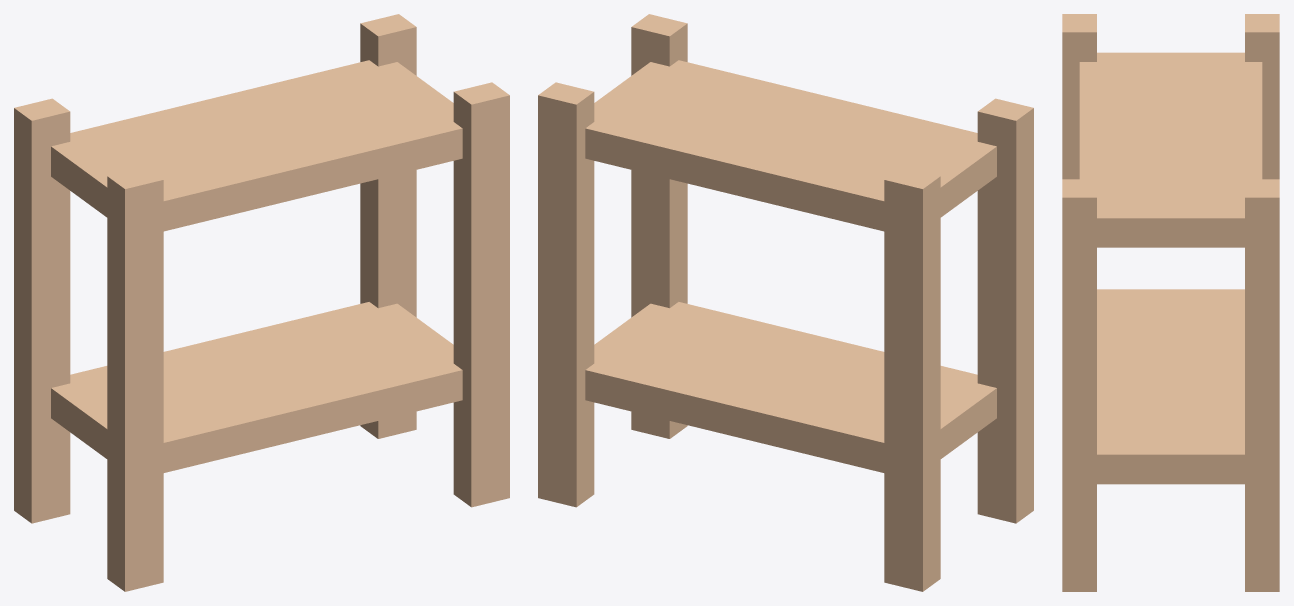
Rendered from bookcaseOpenLow-alt-col.glb.
3 views of the same model, side by side, from view 1: azimuth 30°, elevation 25°; view 2: azimuth 150°, elevation 25°; view 3: azimuth 270°, elevation 25° (orthographic). The views are drawn at different scales.
Parts seen in each view (by area): view 1: bookcaseOpenLow-alt-col; view 2: bookcaseOpenLow-alt-col; view 3: bookcaseOpenLow-alt-col.
Boxes of the visible parts, <box> form: bookcaseOpenLow-alt-col: <box>14,14,509,591</box>; bookcaseOpenLow-alt-col: <box>538,14,1033,591</box>; bookcaseOpenLow-alt-col: <box>1062,14,1279,591</box>.
Bounding box in the file's own units: 0.5 × 0.5 × 0.25.
